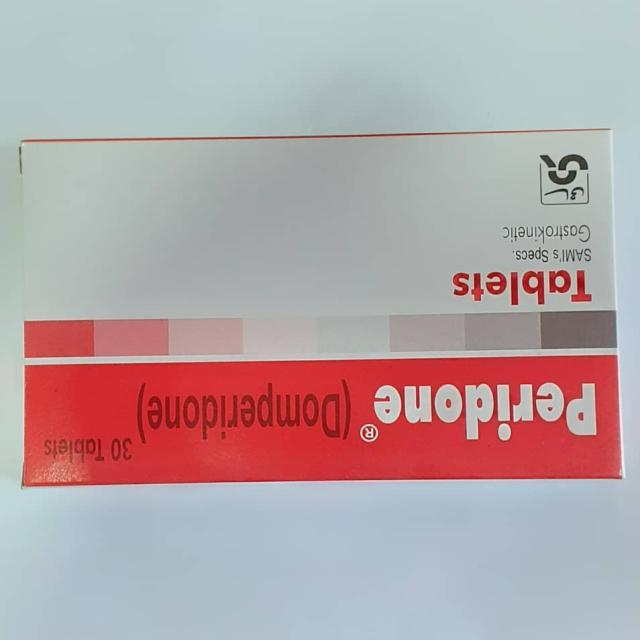drug-name: (372, 379, 600, 443)
